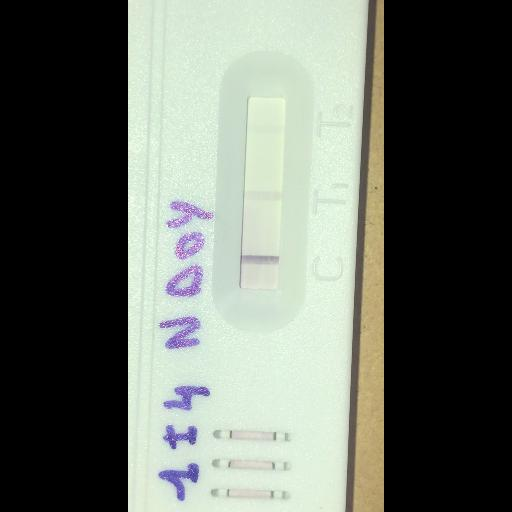Pos: (140, 2, 354, 508)
